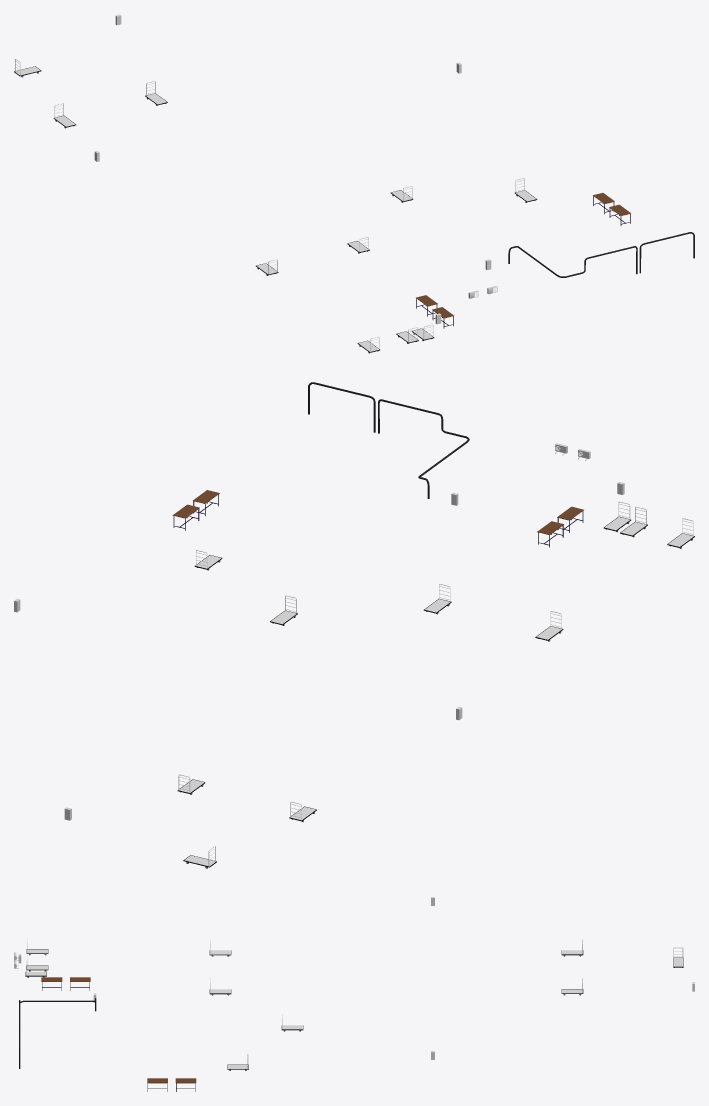
Rendered from AC pamedam.fbx.
3 views of the same model, one above another, from view 1: azimuth 30°, elevation 25°; view 2: azimuth 150°, elevation 25°; view 3: azimuth 270°, elevation 25° (orthographic). The views are drawn at different scales.
Visible parts, largest first — view 1: 27. KERETA, 26. meja, 25. kabel; view 2: 27. KERETA, 26. meja, 25. kabel; view 3: 27. KERETA, 26. meja.
Boxes of the visible parts, x1,y1,x2,y2 form: 27. KERETA: [14, 59, 537, 353]; 26. meja: [416, 193, 630, 328]; 25. kabel: [508, 232, 694, 277]; 27. KERETA: [177, 501, 694, 868]; 26. meja: [172, 490, 583, 547]; 25. kabel: [308, 382, 469, 498]; 27. KERETA: [25, 938, 683, 1070]; 26. meja: [41, 977, 196, 1091].
Size of the model in its own units: 1622 by 204 by 2952.
